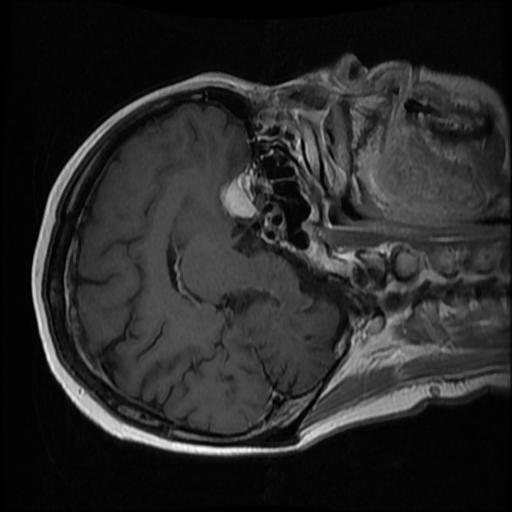meningioma: (217, 177, 255, 219)
